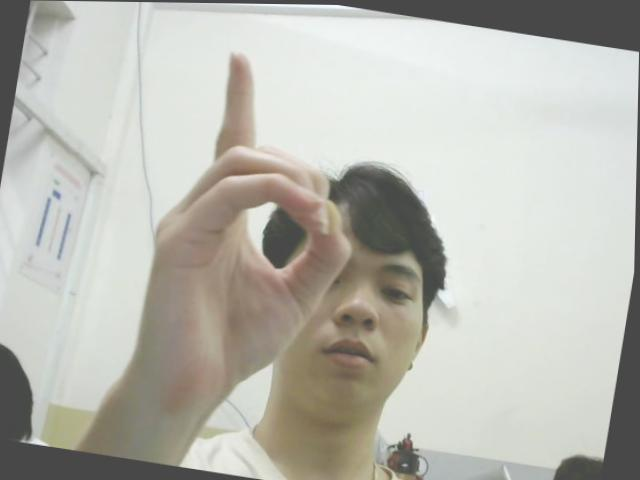D: (130, 38, 383, 402)
